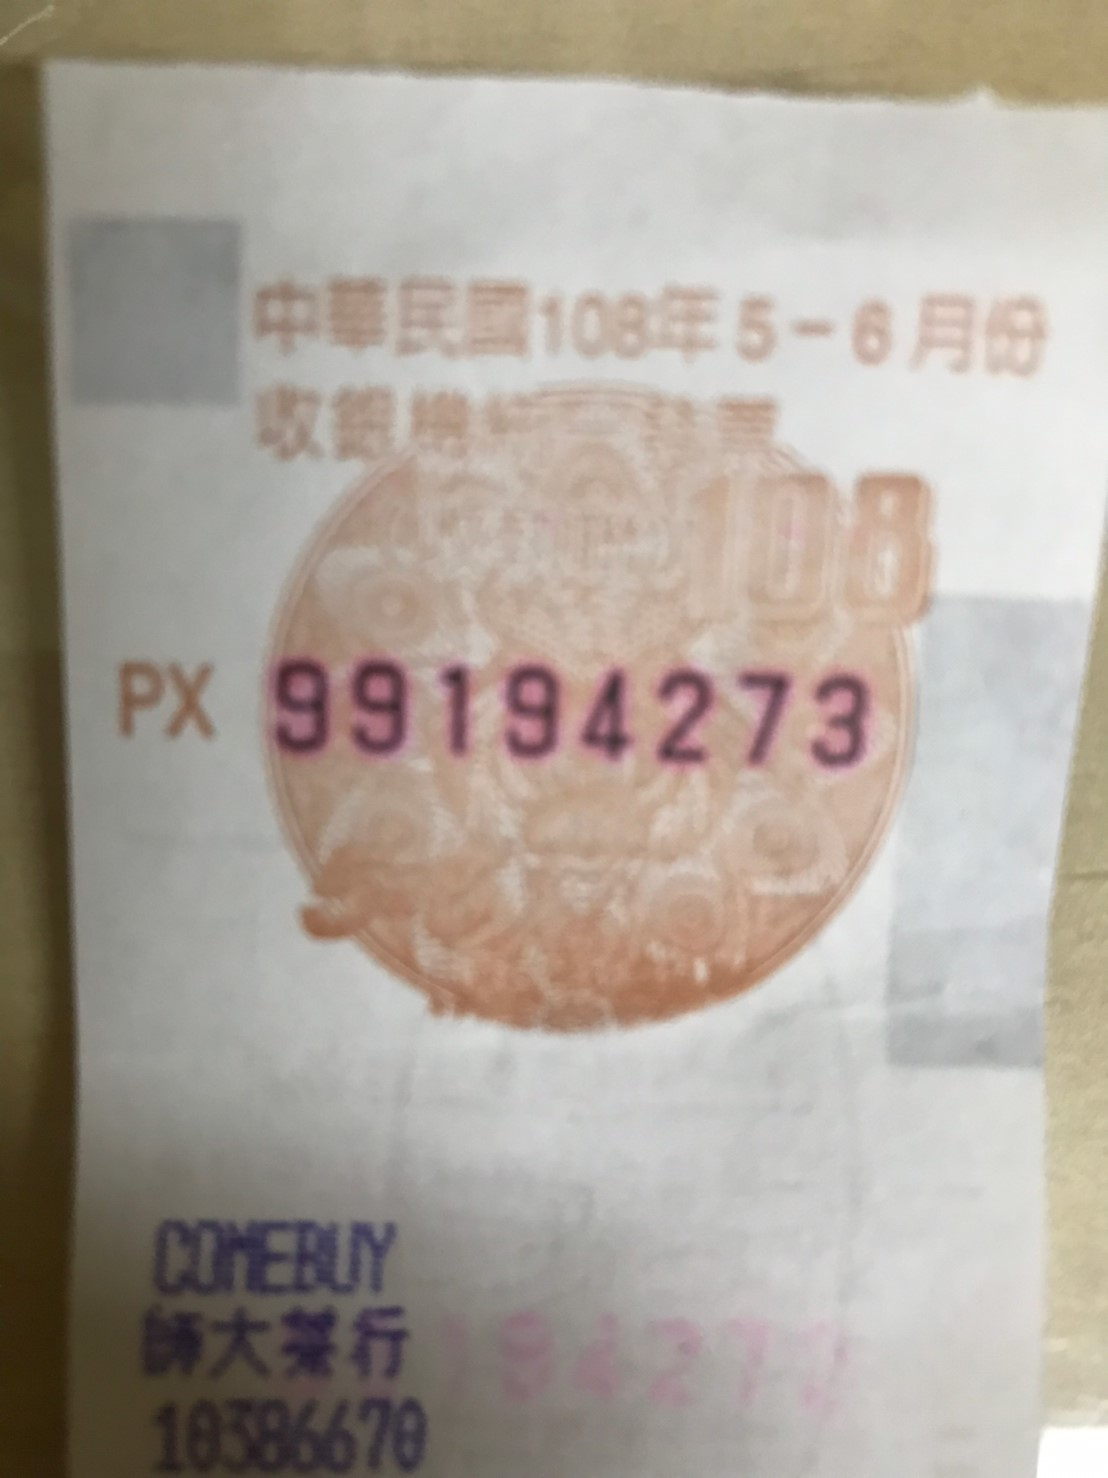Date_Old: (533, 277, 1054, 381)
Number_Old: (271, 649, 876, 777)
